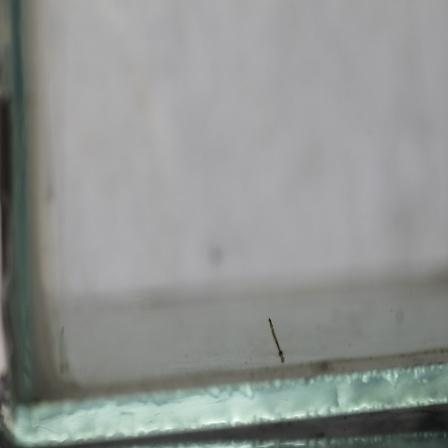Jentik-Nyamuk: (265, 311, 289, 366)
